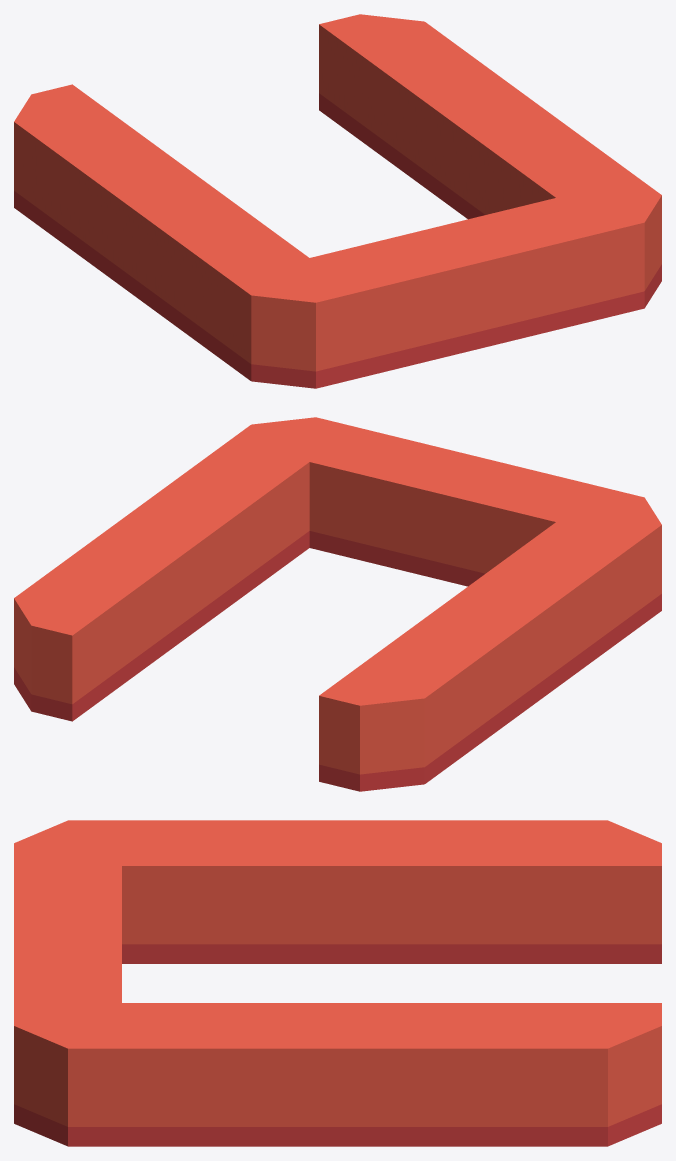
Rendered from Hangar.fbx.
3 views of the same model, one above another, from view 1: azimuth 30°, elevation 25°; view 2: azimuth 150°, elevation 25°; view 3: azimuth 270°, elevation 25° (orthographic). The views are drawn at different scales.
Visible parts, largest first — view 1: mergedBlocks; view 2: mergedBlocks; view 3: mergedBlocks.
Boxes of the visible parts, x1,y1,x2,y2 form: mergedBlocks: [14, 14, 661, 388]; mergedBlocks: [14, 417, 661, 791]; mergedBlocks: [14, 820, 661, 1146].
Size of the model in its own units: 50 by 10 by 60.
